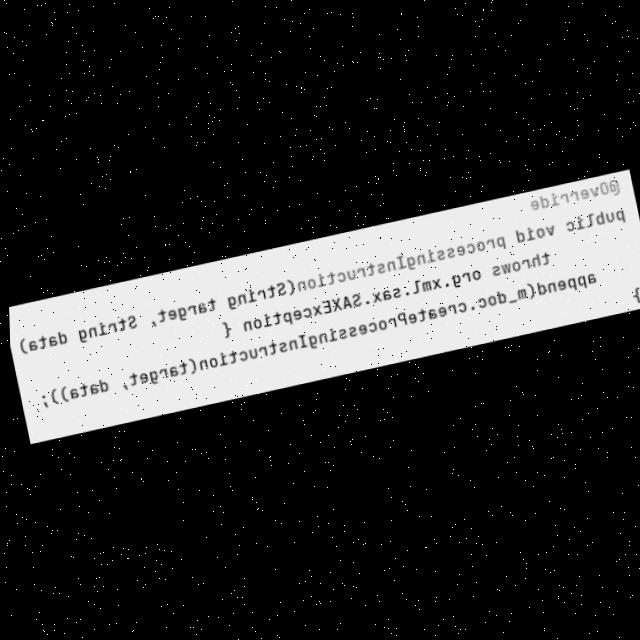code_screen: (9, 169, 640, 441)
